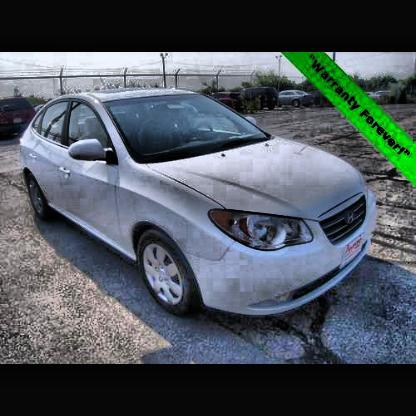Hyundai Elantra Sedan 2007: (19, 90, 378, 317)
